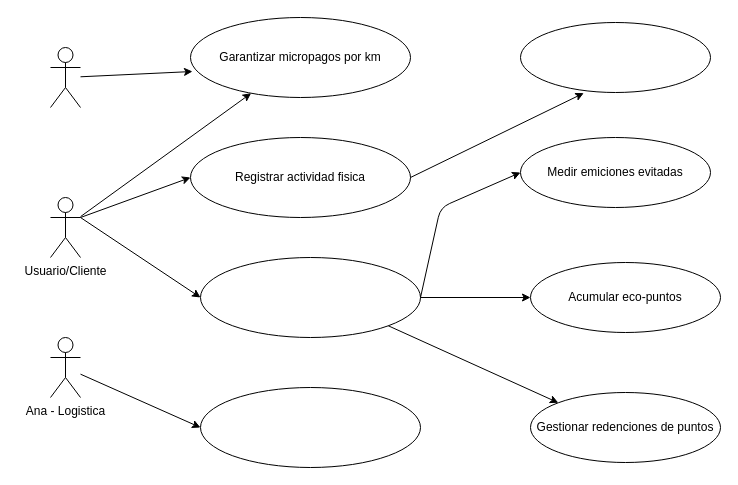
Some shapes in this 738 by 485 pixel diagram are drawn without their labels. The box of each missing label's shape, as (x1, y1, x2, y2) in pixels:
Ari - Monetizacion: (50, 46, 80, 108)
Atender incidencias de canje: (200, 386, 420, 468)
Negociar patrocinos de rencompensas: (520, 22, 710, 92)
Redimir; integrar catalogo de tiendas locales: (200, 256, 420, 338)
